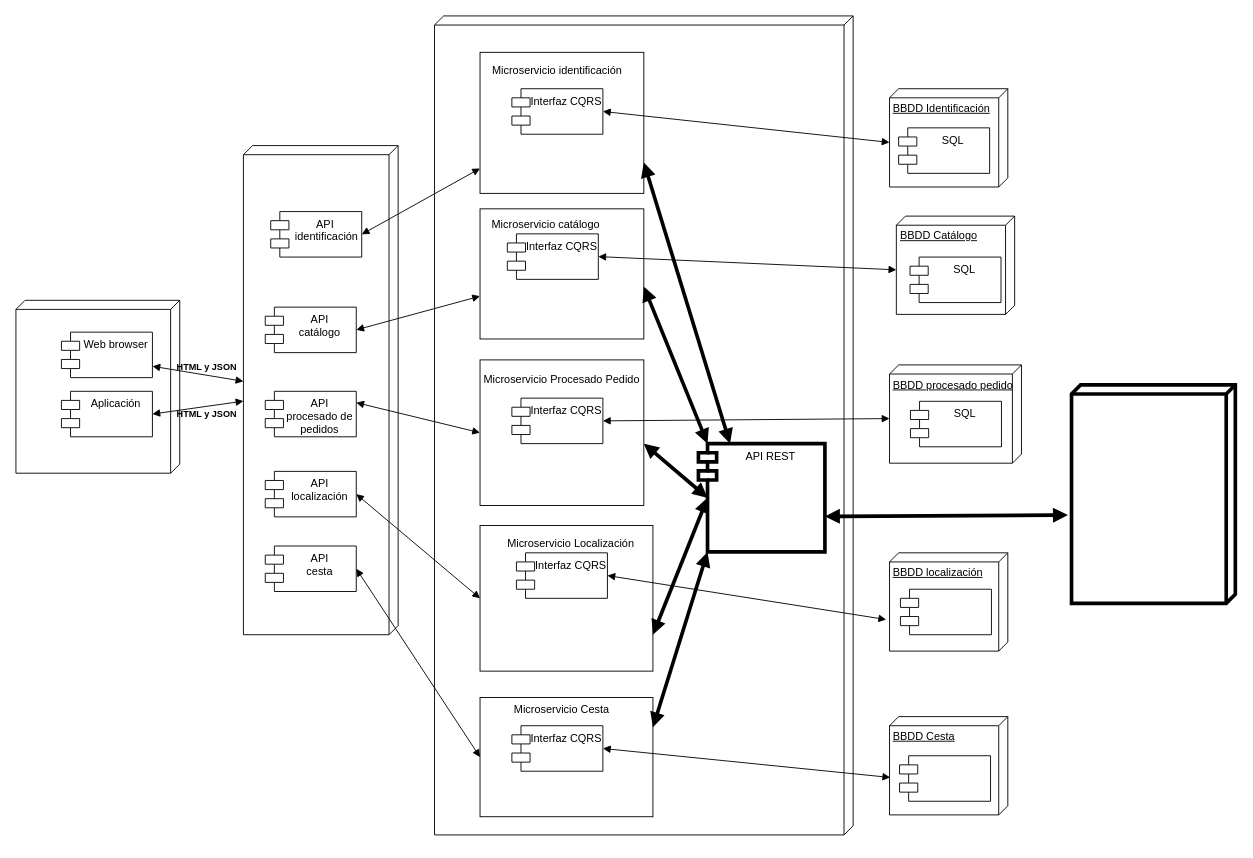
This 1253x858 diagram has some shape labels left out. The box of each missing label's shape, as (x1, y1, x2, y2) in pixels:
Caché: (899, 755, 991, 801)
Cluster: (434, 15, 853, 835)
Device: (15, 299, 180, 473)
Microservicios_De_Terceros: (1069, 383, 1237, 605)
Model GateWay: (243, 145, 398, 635)
MongoDB: (900, 588, 991, 635)
